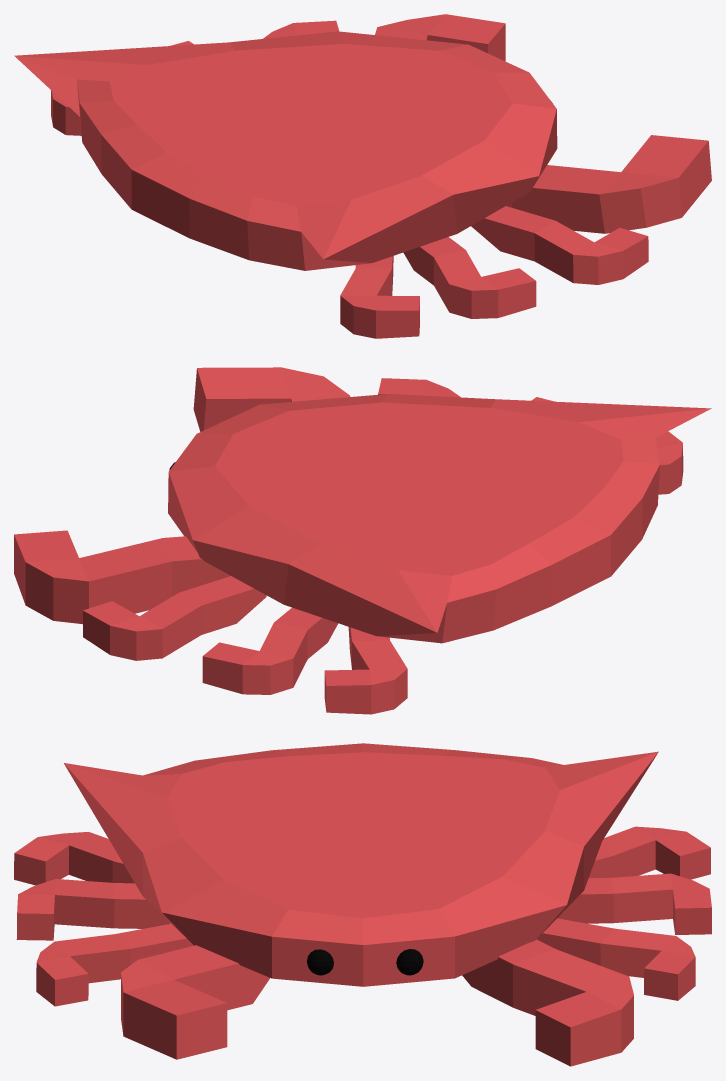
The model's file is crab.fbx.
The picture shows the model from 3 angles, top to bottom: view 1: azimuth 30°, elevation 25°; view 2: azimuth 150°, elevation 25°; view 3: azimuth 270°, elevation 25°; orthographic projection. The views are drawn at different scales.
Parts seen in each view (by area): view 1: Crab, Cube.006, Cube.005, Cube.007, Cube, Cube.004, Cube.003; view 2: Crab, Cube, Cube.003, Cube.002, Cube.004, Cube.007, Cube.006; view 3: Crab, Cube, Cube.003, Cube.002, Cube.006, Cube.005, Cube.004, Cube.007, Sphere.001, Sphere.
Boxes of the visible parts, bbox=[...] form: Crab: bbox=[14, 31, 711, 270]; Cube.006: bbox=[471, 206, 648, 284]; Cube.005: bbox=[403, 237, 536, 318]; Cube.007: bbox=[340, 256, 419, 338]; Cube: bbox=[375, 14, 505, 61]; Cube.004: bbox=[51, 90, 81, 135]; Cube.003: bbox=[263, 20, 339, 38]; Crab: bbox=[168, 367, 711, 643]; Cube: bbox=[14, 530, 230, 624]; Cube.003: bbox=[83, 576, 266, 660]; Cube.002: bbox=[202, 607, 338, 694]; Cube.004: bbox=[324, 627, 407, 714]; Cube.007: bbox=[655, 431, 683, 494]; Cube.006: bbox=[378, 378, 460, 397]; Crab: bbox=[64, 743, 658, 1059]; Cube: bbox=[462, 939, 633, 1066]; Cube.003: bbox=[537, 918, 695, 1000]; Cube.002: bbox=[557, 873, 711, 934]; Cube.006: bbox=[36, 924, 193, 1006]; Cube.005: bbox=[16, 879, 170, 940]; Cube.004: bbox=[589, 826, 710, 879]; Cube.007: bbox=[14, 832, 134, 885]; Sphere.001: bbox=[396, 949, 423, 975]; Sphere: bbox=[307, 949, 333, 975].
Size of the model in its own units: 86.3 by 15.91 by 102.
